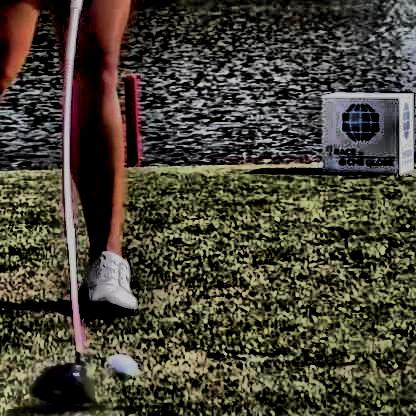golfball: (99, 350, 133, 382)
